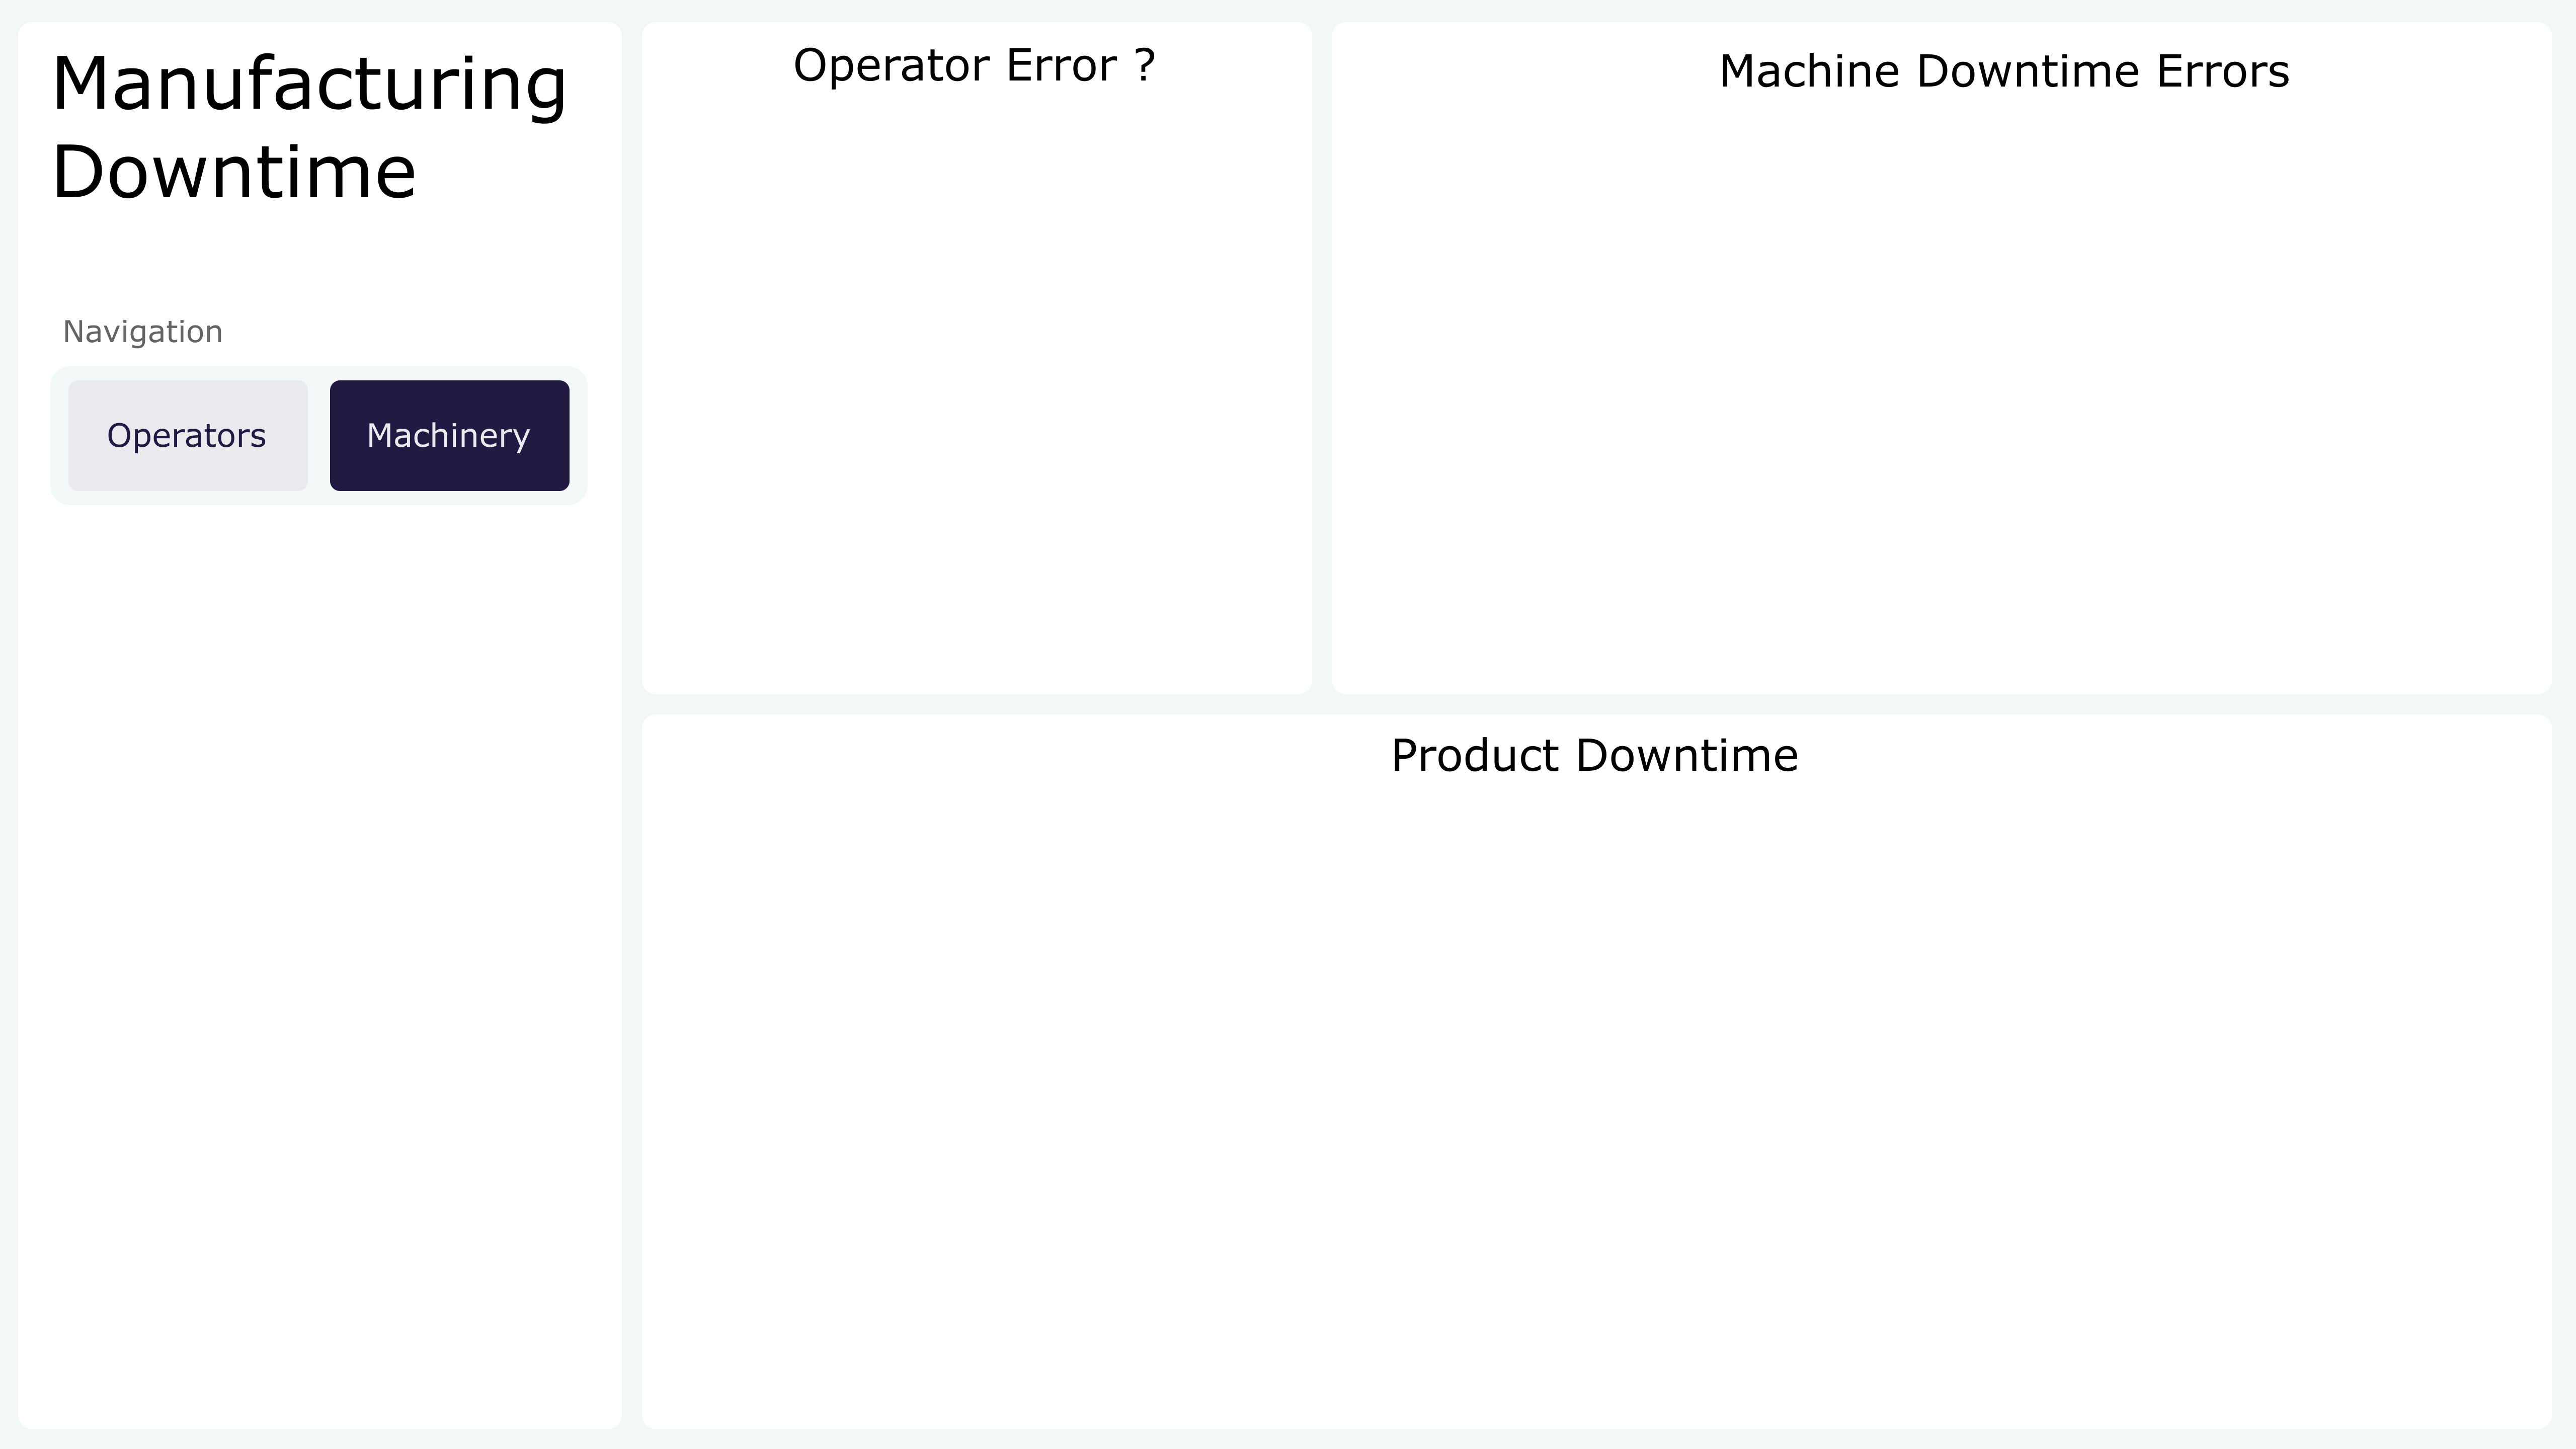

The page's visual inventory and layout, read from the dashboard file:
{"tool":"powerbi","page":{"name":"Machinary","canvas":[1280,720],"ordinal":1},"visuals":[{"type":"image","box":[0,0,1280.1,720],"z":500},{"type":"columnChart","fields":{"Category":["Line productivity.Product","Line productivity.Batch"],"Y":["DAX-Measures.Downtime"]},"box":[328.9,388.9,934.2,316.7],"z":1000},{"type":"slicer","title":"Downtime (Minutes)","fields":{"Values":["Downtime In Minutes.Downtime In Minutes"]},"box":[1017.9,371.9,245.7,87.8],"z":2000},{"type":"lineStackedColumnComboChart","fields":{"Category":["Line downtime.Description"],"Y":["DAX-Measures.Number of Errors"],"Y2":["Sum(Line downtime.Downtime)"]},"box":[668.3,53.5,583.2,286.8],"z":3000},{"type":"donutChart","fields":{"Y":["Sum(Line downtime.Downtime)"],"Category":["Line downtime.Operator Error"]},"box":[329.1,53.7,338.9,283],"z":4000},{"type":"slicer","fields":{"Values":["Line productivity.Operator"]},"box":[26.3,292.9,273.1,86.7],"z":5000},{"type":"slicer","fields":{"Values":["Products.Product"]},"box":[26.3,396,273.1,74.6],"z":6000},{"type":"slicer","fields":{"Values":["Line productivity.Date"]},"box":[26.3,487,273.1,84.5],"z":7000},{"type":"actionButton","box":[41.7,189.8,114.1,51.6],"z":8000},{"type":"card","fields":{"Values":["DAX-Measures.Number of Errors"]},"box":[438.8,153.6,120.7,75.7],"z":9000}]}

Visuals, with their boxes in screenshot pixels (x1, y1, x2, y2), scaled from the page's 1280x720 canvas onto the 2576x1449 screenshot:
image: detection(0, 0, 2575, 1448)
columnChart - Line productivity.Product x Line productivity.Batch: detection(662, 783, 2542, 1420)
"Downtime (Minutes)" slicer: detection(2049, 749, 2543, 925)
lineStackedColumnComboChart - Line downtime.Description x DAX-Measures.Number of Errors: detection(1345, 108, 2519, 685)
donutChart - Sum(Line downtime.Downtime) x Line downtime.Operator Error: detection(662, 108, 1344, 678)
slicer - Line productivity.Operator: detection(53, 590, 603, 764)
slicer - Products.Product: detection(53, 797, 603, 947)
slicer - Line productivity.Date: detection(53, 980, 603, 1150)
actionButton: detection(84, 382, 313, 486)
card - DAX-Measures.Number of Errors: detection(883, 309, 1126, 461)
